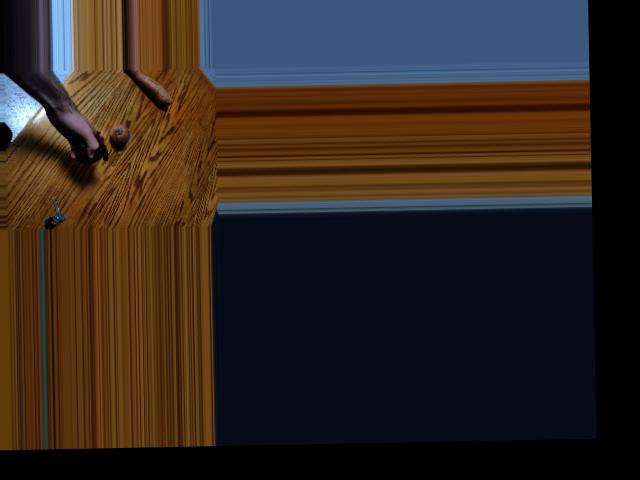onion: (107, 124, 131, 145)
